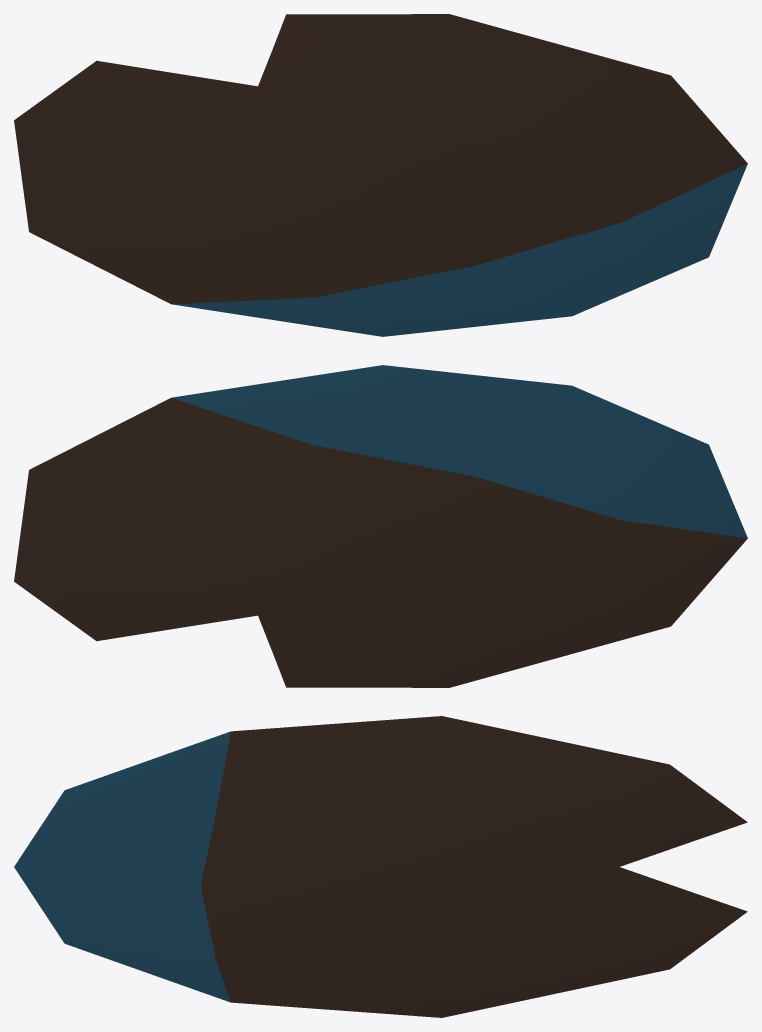
File: itch_assetquest_pond_water_lily_leaf_2.glb
3 renders of one model, top to bottom at view 1: azimuth 30°, elevation 25°; view 2: azimuth 150°, elevation 25°; view 3: azimuth 270°, elevation 25°, orthographic. The views are drawn at different scales.
Visible parts, largest first — view 1: Water_Lily_Leaf_2; view 2: Water_Lily_Leaf_2; view 3: Water_Lily_Leaf_2.
Part boxes in pixels (x1,y1,x2,y2): Water_Lily_Leaf_2: [14, 14, 747, 336]; Water_Lily_Leaf_2: [14, 365, 747, 687]; Water_Lily_Leaf_2: [14, 716, 747, 1017].
Size of the model in its own units: 0.9345 by 0.0283 by 0.96.
